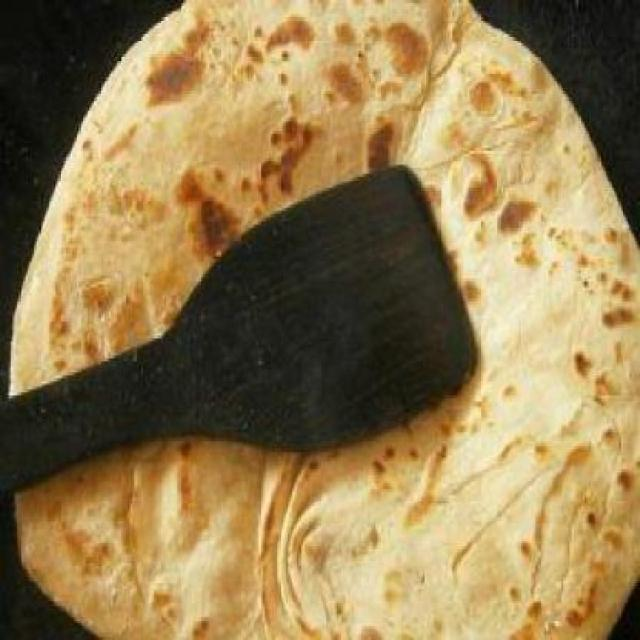chapati: (8, 0, 638, 637)
